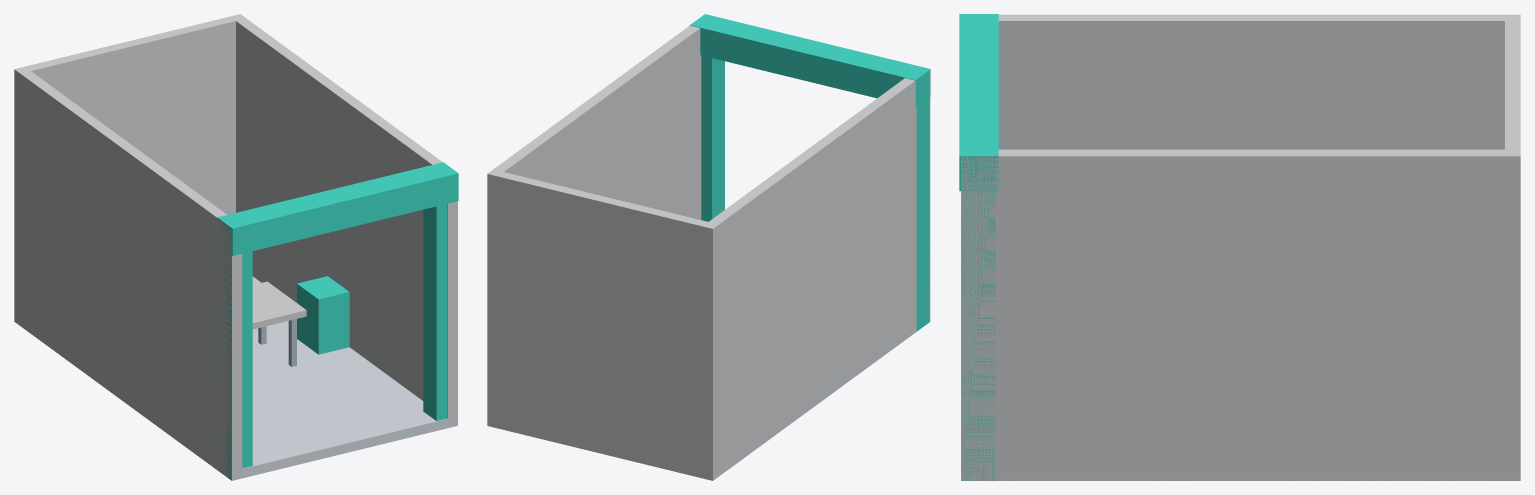
The picture shows the model from 3 angles, left to right: view 1: azimuth 30°, elevation 25°; view 2: azimuth 150°, elevation 25°; view 3: azimuth 270°, elevation 25°; orthographic projection. The views are drawn at different scales.
Parts seen in each view (by area): view 1: Exhibition Booth Concept; view 2: Exhibition Booth Concept; view 3: Exhibition Booth Concept.
Part boxes in pixels (x1=…): Exhibition Booth Concept: x1=14, y1=14, x2=458, y2=480; Exhibition Booth Concept: x1=487, y1=14, x2=930, y2=480; Exhibition Booth Concept: x1=959, y1=14, x2=1520, y2=480.
Size of the model in its own units: 3 by 3.2 by 5.02.
